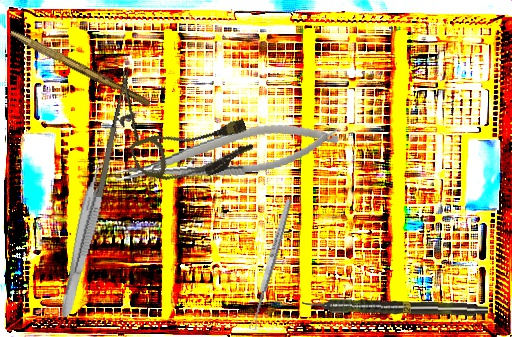Cannula: (128, 104, 258, 199)
Handpiece: (301, 295, 489, 319)
Needle Holder: (110, 115, 342, 193), (92, 68, 155, 203)
Scalpel Handle: (7, 29, 153, 108)
Surgical Spoon: (247, 198, 294, 331)
Tissue Forceps: (58, 157, 113, 321)
